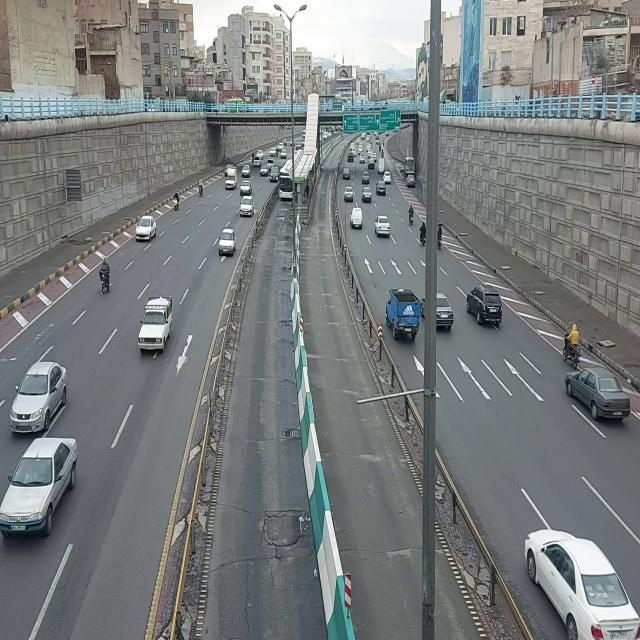Bus: (279, 158, 293, 200)
Car: (522, 523, 640, 639), (0, 435, 79, 541), (9, 358, 69, 436), (564, 367, 631, 423), (467, 285, 503, 327), (420, 291, 454, 332), (135, 215, 157, 243), (218, 228, 237, 258), (374, 215, 390, 239), (239, 196, 255, 218), (239, 179, 253, 197), (269, 166, 281, 184), (361, 186, 373, 204), (375, 180, 387, 197), (344, 185, 354, 203), (260, 163, 270, 178), (241, 165, 251, 179), (406, 174, 416, 188), (382, 171, 392, 184), (342, 167, 351, 181), (362, 171, 370, 185), (253, 155, 262, 167), (347, 151, 355, 163), (368, 158, 376, 170), (280, 149, 288, 160), (360, 153, 367, 165), (370, 151, 378, 161), (269, 146, 275, 158), (358, 146, 364, 156)
Motorcycle: (562, 321, 582, 370), (98, 256, 112, 297), (172, 191, 181, 213), (437, 223, 444, 251), (419, 220, 425, 246), (408, 204, 414, 226), (198, 177, 204, 197), (251, 152, 255, 165), (276, 147, 280, 159), (381, 149, 384, 159), (379, 143, 381, 154), (383, 138, 385, 147)
Pickup: (137, 295, 175, 355), (385, 288, 421, 341), (224, 166, 238, 191), (350, 206, 364, 228), (378, 158, 386, 175)
